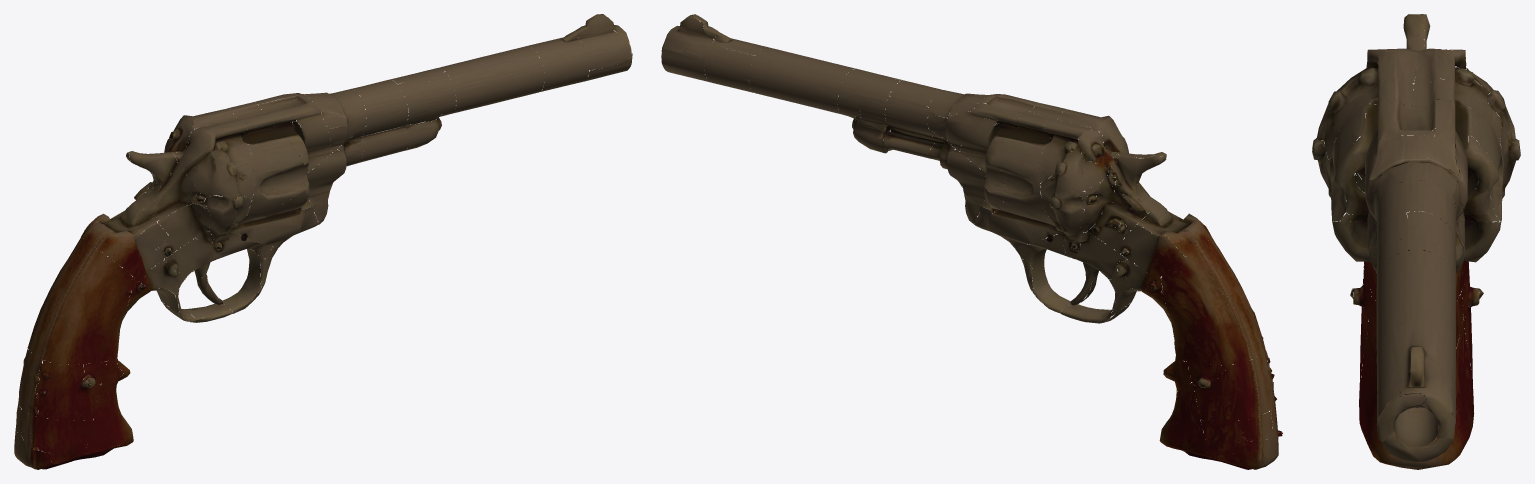
File: revolver_v2 3d model.glb
3 renders of one model, left to right at view 1: azimuth 30°, elevation 25°; view 2: azimuth 150°, elevation 25°; view 3: azimuth 270°, elevation 25°, orthographic. The views are drawn at different scales.
Visible parts, largest first — view 1: tripo_node_77fca05c-80c9-4e8c-922d-7b7525fa23ab; view 2: tripo_node_77fca05c-80c9-4e8c-922d-7b7525fa23ab; view 3: tripo_node_77fca05c-80c9-4e8c-922d-7b7525fa23ab.
Part boxes in pixels (x1=…): tripo_node_77fca05c-80c9-4e8c-922d-7b7525fa23ab: x1=14, y1=14, x2=632, y2=469; tripo_node_77fca05c-80c9-4e8c-922d-7b7525fa23ab: x1=661, y1=14, x2=1282, y2=469; tripo_node_77fca05c-80c9-4e8c-922d-7b7525fa23ab: x1=1312, y1=14, x2=1520, y2=469.
Bounding box in the file's own units: 0.9999 × 0.4948 × 0.1834.
1 material, 1 textured.
